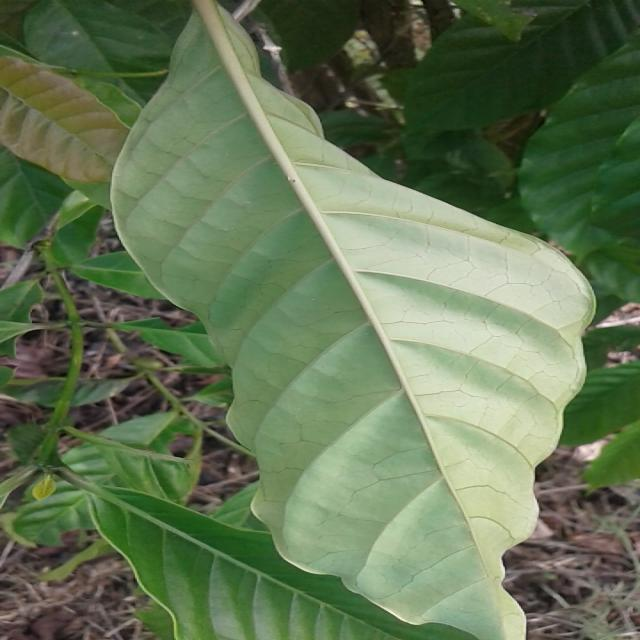Sanas: (107, 0, 596, 640)
